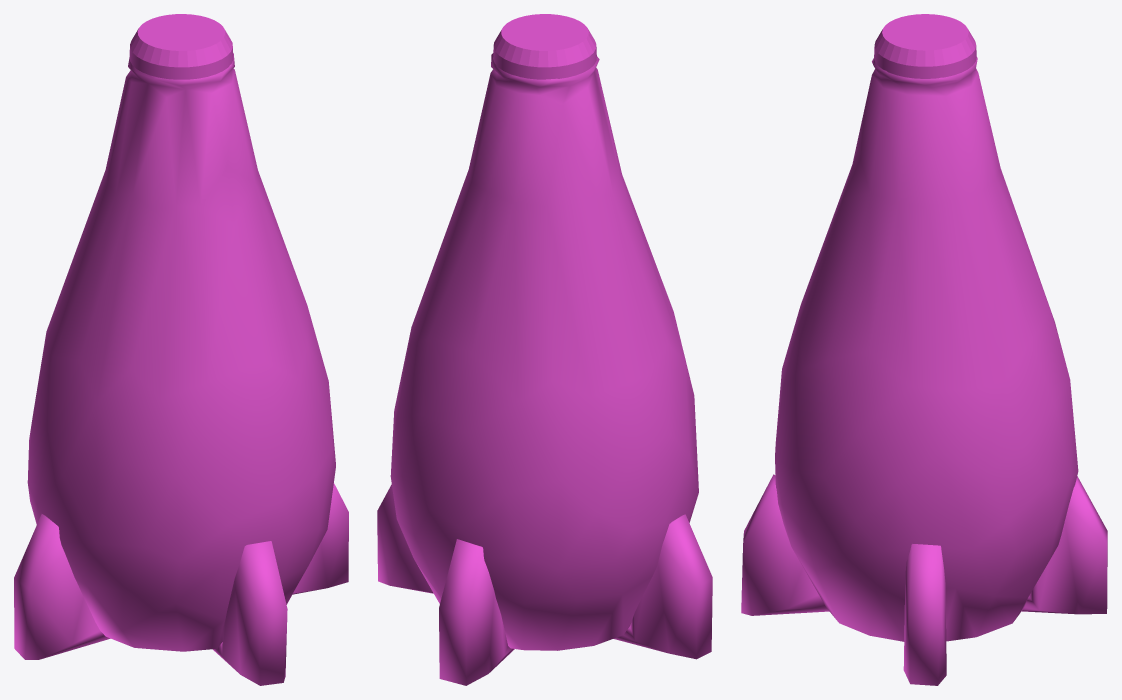
Rendered from NukaCola.glb.
3 renders of one model, left to right at view 1: azimuth 30°, elevation 25°; view 2: azimuth 150°, elevation 25°; view 3: azimuth 270°, elevation 25°, orthographic.
Visible parts, largest first — view 1: NukaCola; view 2: NukaCola; view 3: NukaCola.
Boxes of the visible parts, x1,y1,x2,y2 form: NukaCola: (14,14,348,685); NukaCola: (377,14,712,685); NukaCola: (741,14,1107,685).
Bounding box in the file's own units: 0.7529 × 1.3 × 0.751.
